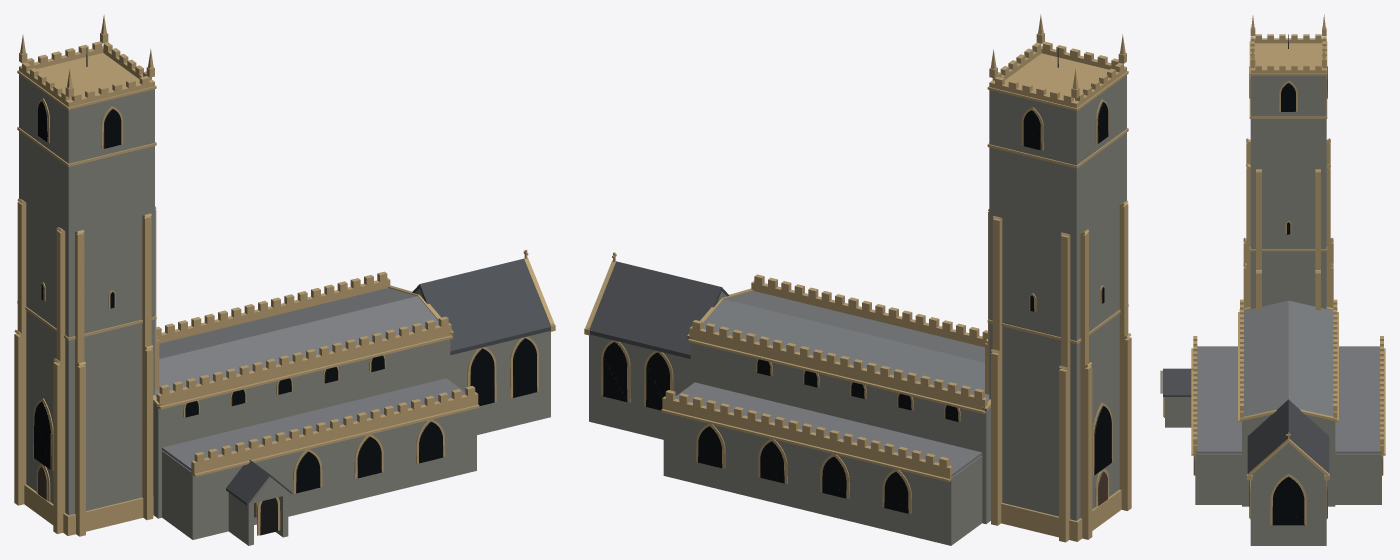
Rendered from context.church.som_tower.glb.
3 views of the same model, side by side, from view 1: azimuth 30°, elevation 25°; view 2: azimuth 150°, elevation 25°; view 3: azimuth 270°, elevation 25° (orthographic). The views are drawn at different scales.
Visible parts, largest first — view 1: main__stone_888, main__stone_ba7, main__clad_778, main__clad_455, main__glass_dark, main__stone_875; view 2: main__stone_888, main__stone_ba7, main__clad_778, main__glass_dark, main__clad_455, main__stone_875; view 3: main__stone_888, main__clad_778, main__stone_ba7, main__clad_455, main__glass_dark.
Boxes of the visible parts, x1,y1,x2,y2 form: main__stone_888: (19, 74, 550, 545); main__stone_ba7: (14, 14, 555, 536); main__clad_778: (155, 288, 465, 471); main__clad_455: (226, 258, 551, 505); main__glass_dark: (34, 101, 536, 493); main__stone_875: (33, 101, 537, 535); main__stone_888: (589, 75, 1126, 545); main__stone_ba7: (584, 14, 1131, 542); main__clad_778: (675, 291, 989, 477); main__glass_dark: (603, 102, 1111, 513); main__clad_455: (589, 261, 729, 358); main__stone_875: (603, 102, 1111, 513); main__stone_888: (1160, 75, 1381, 545); main__clad_778: (1195, 300, 1381, 453); main__stone_ba7: (1164, 14, 1385, 524); main__clad_455: (1163, 368, 1329, 474); main__glass_dark: (1194, 66, 1382, 525).
Bounding box in the file's own units: 37.07 × 33.46 × 19.33.
